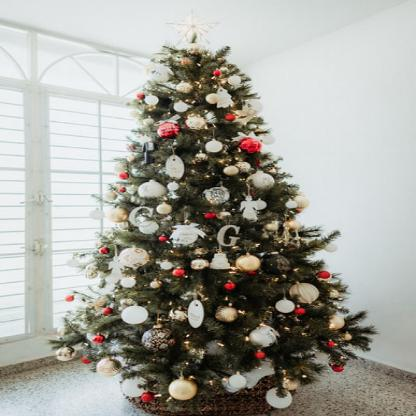x_mas tree: (79, 26, 380, 397)
